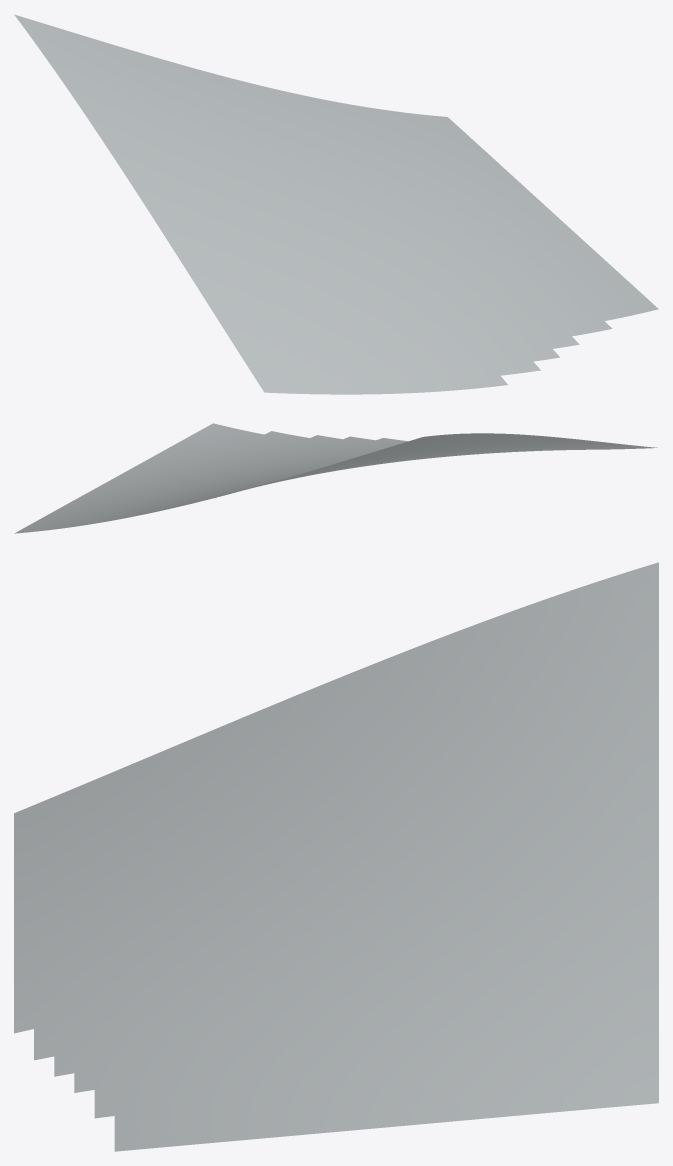
Rendered from alpine-10-8.glb.
3 views of the same model, one above another, from view 1: azimuth 30°, elevation 25°; view 2: azimuth 150°, elevation 25°; view 3: azimuth 270°, elevation 25° (orthographic). The views are drawn at different scales.
Parts seen in each view (by area): view 1: alpine-10-8; view 2: alpine-10-8; view 3: alpine-10-8.
Boxes of the visible parts, x1,y1,x2,y2 form: alpine-10-8: (14,14,658,394); alpine-10-8: (14,423,657,533); alpine-10-8: (14,562,658,1151).
Bounding box in the file's own units: 256 × 140 × 256.
1 material, 1 textured.
